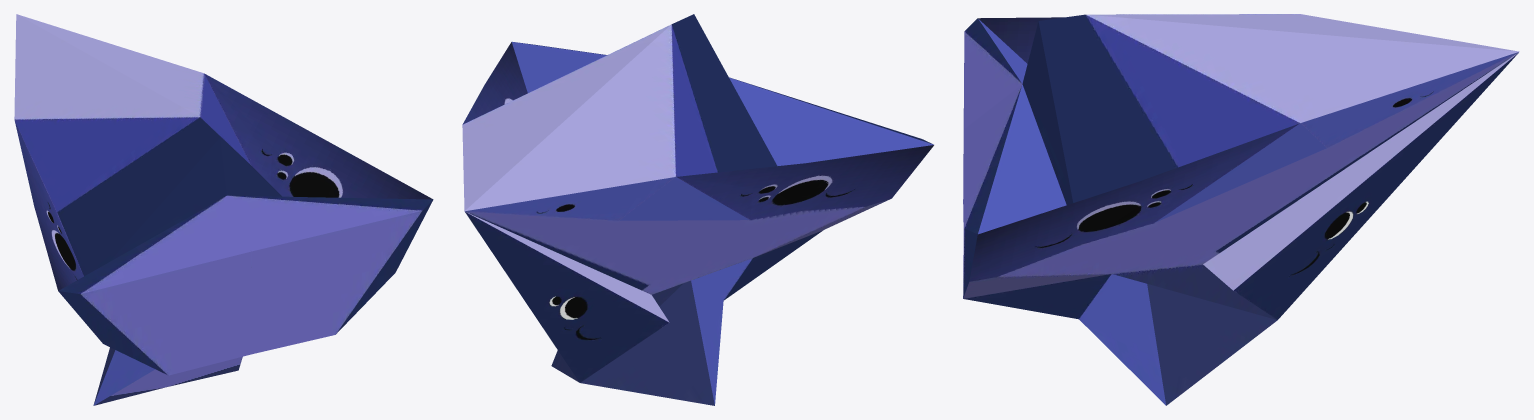
File: Github-3D-Block2.glb
3 views of the same model, side by side, from view 1: azimuth 30°, elevation 25°; view 2: azimuth 150°, elevation 25°; view 3: azimuth 270°, elevation 25° (orthographic). The views are drawn at different scales.
Visible parts, largest first — view 1: Plane.003; view 2: Plane.003; view 3: Plane.003.
Part boxes in pixels (x1,y1,x2,y2): Plane.003: (14,14,433,405); Plane.003: (462,14,933,405); Plane.003: (963,14,1519,405).
Bounding box in the file's own units: 3.44 × 2.6 × 3.75.
1 material, 1 textured.
